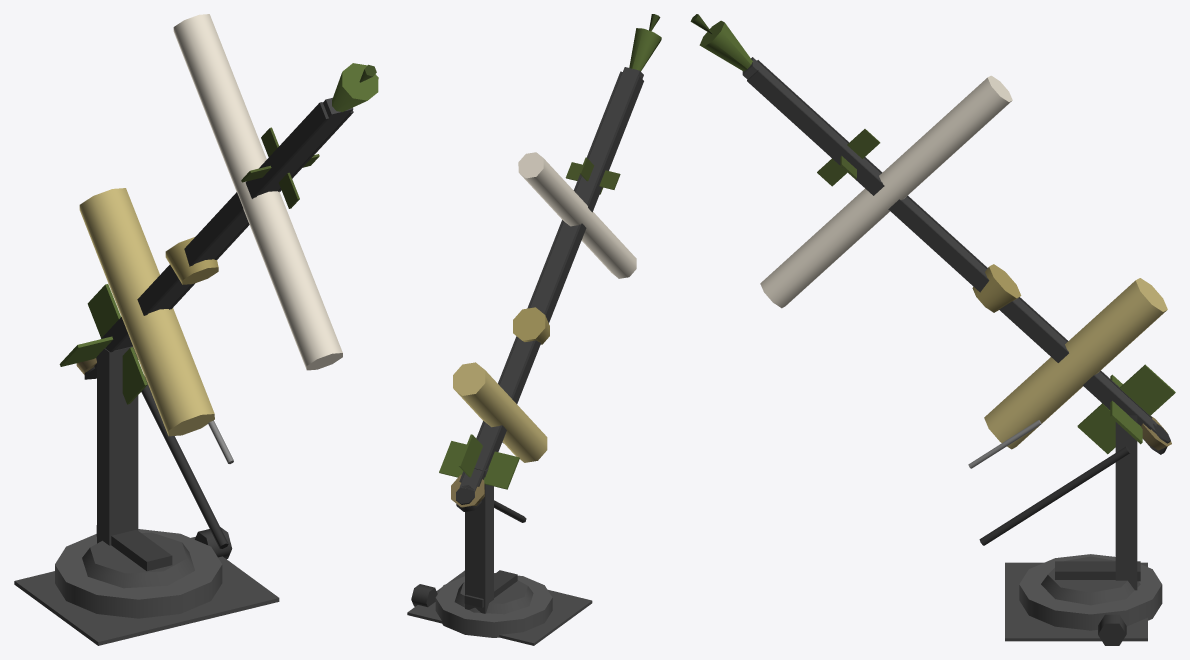
Rendered from sa2-sam.glb.
3 views of the same model, side by side, from view 1: azimuth 30°, elevation 25°; view 2: azimuth 150°, elevation 25°; view 3: azimuth 270°, elevation 25° (orthographic). The views are drawn at different scales.
Parts seen in each view (by area): view 1: Mesh_MissileSustainer, Mesh_MissileBooster, Mesh_PedestalBase, Mesh_RailSupport, Mesh_BlastPlate, Mesh_RailGuideL, Mesh_PedestalRing, Mesh_LaunchRail, Mesh_Hydraulic, Mesh_SupportGusset, Mesh_NoseCone, Mesh_BoosterSustainerJoint (+4 smaller); view 2: Mesh_LaunchRail, Mesh_MissileSustainer, Mesh_MissileBooster, Mesh_PedestalBase, Mesh_RailSupport, Mesh_RailGuideL, Mesh_BlastPlate, Mesh_PedestalRing, Mesh_BoosterSustainerJoint, Mesh_BoosterFin1, Mesh_NoseCone, Mesh_RailGuideR (+6 smaller); view 3: Mesh_MissileSustainer, Mesh_MissileBooster, Mesh_RailGuideR, Mesh_PedestalBase, Mesh_RailSupport, Mesh_BlastPlate, Mesh_LaunchRail, Mesh_PedestalRing, Mesh_Hydraulic, Mesh_BoosterFin2, Mesh_NoseCone, Mesh_BoosterSustainerJoint (+4 smaller).
Part boxes in pixels (x1,y1,x2,y2): Mesh_MissileSustainer: [173, 14, 342, 370]; Mesh_MissileBooster: [79, 188, 214, 436]; Mesh_PedestalBase: [55, 529, 222, 618]; Mesh_RailSupport: [97, 346, 138, 545]; Mesh_BlastPlate: [14, 536, 279, 645]; Mesh_RailGuideL: [94, 102, 328, 368]; Mesh_PedestalRing: [82, 532, 194, 588]; Mesh_LaunchRail: [114, 97, 353, 350]; Mesh_Hydraulic: [141, 375, 228, 548]; Mesh_SupportGusset: [96, 525, 172, 571]; Mesh_NoseCone: [332, 63, 378, 112]; Mesh_BoosterSustainerJoint: [165, 237, 218, 284]; Mesh_LaunchRail: [459, 67, 643, 491]; Mesh_MissileSustainer: [518, 152, 636, 278]; Mesh_MissileBooster: [453, 362, 547, 462]; Mesh_PedestalBase: [435, 573, 552, 637]; Mesh_RailSupport: [465, 468, 493, 613]; Mesh_RailGuideL: [476, 76, 643, 486]; Mesh_BlastPlate: [407, 570, 592, 645]; Mesh_PedestalRing: [454, 580, 533, 614]; Mesh_BoosterSustainerJoint: [513, 307, 549, 344]; Mesh_BoosterFin1: [484, 451, 519, 489]; Mesh_NoseCone: [629, 28, 661, 71]; Mesh_RailGuideR: [459, 71, 622, 482]; Mesh_MissileSustainer: [760, 75, 1012, 308]; Mesh_MissileBooster: [984, 278, 1167, 449]; Mesh_RailGuideR: [747, 70, 1152, 429]; Mesh_PedestalBase: [1019, 554, 1162, 630]; Mesh_RailSupport: [1115, 405, 1137, 590]; Mesh_BlastPlate: [1005, 562, 1147, 641]; Mesh_LaunchRail: [742, 57, 1156, 433]; Mesh_PedestalRing: [1041, 556, 1140, 605]; Mesh_Hydraulic: [979, 446, 1130, 545]; Mesh_BoosterFin2: [1120, 364, 1175, 415]; Mesh_NoseCone: [699, 20, 752, 71]; Mesh_BoosterSustainerJoint: [972, 264, 1021, 312].
Size of the model in its own units: 2.6 by 9.13 by 6.79.
